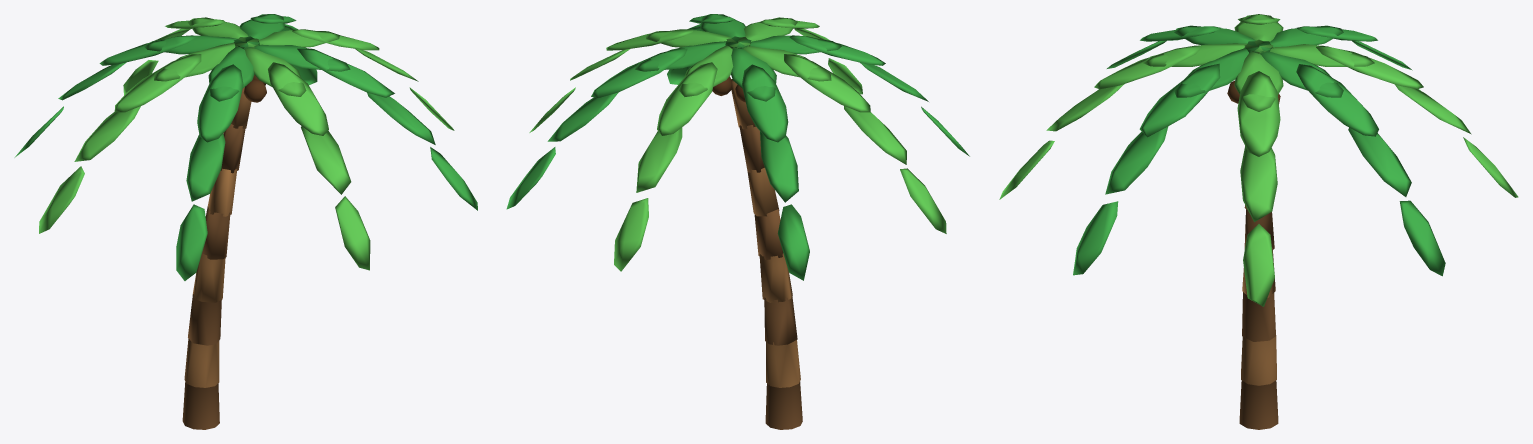
The model's file is palm_lod.glb.
3 renders of one model, left to right at view 1: azimuth 30°, elevation 25°; view 2: azimuth 150°, elevation 25°; view 3: azimuth 270°, elevation 25°, orthographic. The views are drawn at different scales.
Visible parts, largest first — view 1: palm_lod; view 2: palm_lod; view 3: palm_lod.
Boxes of the visible parts, x1,y1,x2,y2 form: palm_lod: (14, 14, 477, 429); palm_lod: (506, 14, 969, 429); palm_lod: (999, 14, 1518, 429).
Size of the model in its own units: 8.18 by 6.96 by 8.2.
